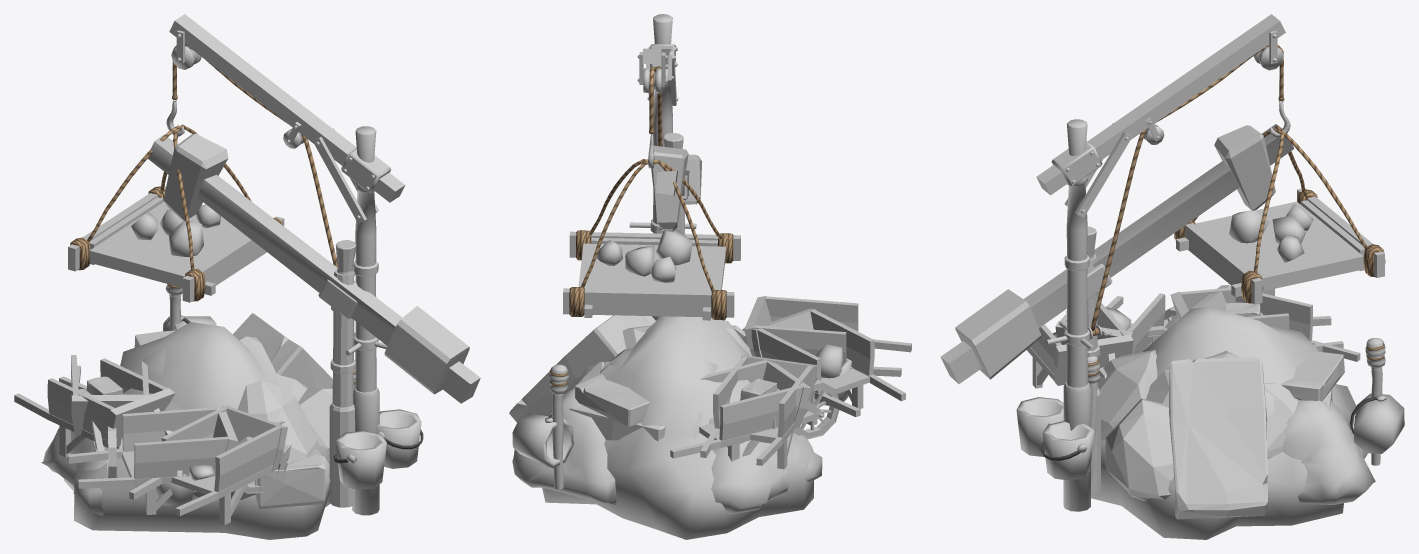
File: Mine1.fbx
3 views of the same model, side by side, from view 1: azimuth 30°, elevation 25°; view 2: azimuth 150°, elevation 25°; view 3: azimuth 270°, elevation 25° (orthographic). The views are drawn at different scales.
Parts seen in each view (by area): view 1: Crane.001, Crane.002, Pile.001, Wheelbarrow.001, Wheelbarrow.002, Wheelbarrow.003, Quartz.001, Marble.001, Bucket.002, Pile.002, Wheelbarrow.004, Bucket.001 (+3 smaller); view 2: Pile.001, Crane.001, Pile.002, Marble.001, Wheelbarrow.004, Wheelbarrow.001, Wheelbarrow.002, Wheelbarrow.003, Crane.002, Bucket.003, Torch.002, Quartz.001; view 3: Crane.001, Crane.002, Marble.001, Pile.001, Quartz.001, Pile.002, Wheelbarrow.002, Bucket.001, Bucket.003, Wheelbarrow.003, Wheelbarrow.004, Wheelbarrow.001 (+3 smaller).
Boxes of the visible parts, <box> form: Crane.001: <box>68,14,405,515</box>; Crane.002: <box>148,133,480,507</box>; Pile.001: <box>63,322,330,539</box>; Wheelbarrow.001: <box>68,406,287,514</box>; Wheelbarrow.002: <box>129,406,287,525</box>; Wheelbarrow.003: <box>14,358,174,457</box>; Quartz.001: <box>192,336,332,499</box>; Marble.001: <box>134,313,332,406</box>; Bucket.002: <box>333,430,386,489</box>; Pile.002: <box>41,346,214,515</box>; Wheelbarrow.004: <box>71,355,150,478</box>; Bucket.001: <box>376,409,423,468</box>; Pile.001: <box>542,316,813,539</box>; Crane.001: <box>563,14,740,320</box>; Pile.002: <box>512,348,822,514</box>; Marble.001: <box>509,315,665,441</box>; Wheelbarrow.004: <box>670,359,839,461</box>; Wheelbarrow.001: <box>751,308,905,425</box>; Wheelbarrow.002: <box>732,296,911,376</box>; Wheelbarrow.003: <box>700,355,817,469</box>; Crane.002: <box>651,133,702,233</box>; Bucket.003: <box>512,413,573,468</box>; Torch.002: <box>548,364,568,489</box>; Quartz.001: <box>573,320,751,388</box>; Crane.001: <box>1036,14,1385,511</box>; Crane.002: <box>940,124,1294,494</box>; Marble.001: <box>1169,351,1344,519</box>; Pile.001: <box>1091,306,1355,539</box>; Quartz.001: <box>1098,350,1298,499</box>; Pile.002: <box>1126,361,1375,504</box>; Wheelbarrow.002: <box>1027,298,1133,388</box>; Bucket.001: <box>1041,421,1094,480</box>; Bucket.003: <box>1350,393,1404,453</box>; Wheelbarrow.003: <box>1148,287,1343,351</box>; Wheelbarrow.004: <box>1164,285,1360,361</box>; Wheelbarrow.001: <box>1055,293,1173,353</box>.
Size of the model in its own units: 715 by 780 by 599.
